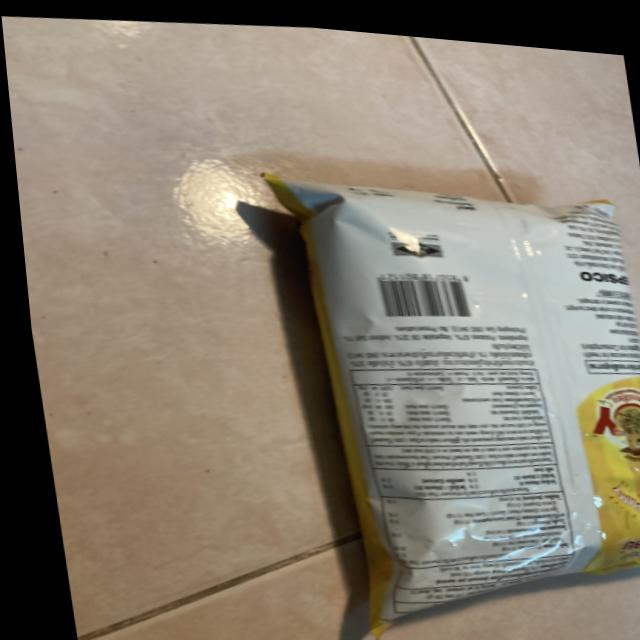LayYellow: (256, 143, 640, 628)
